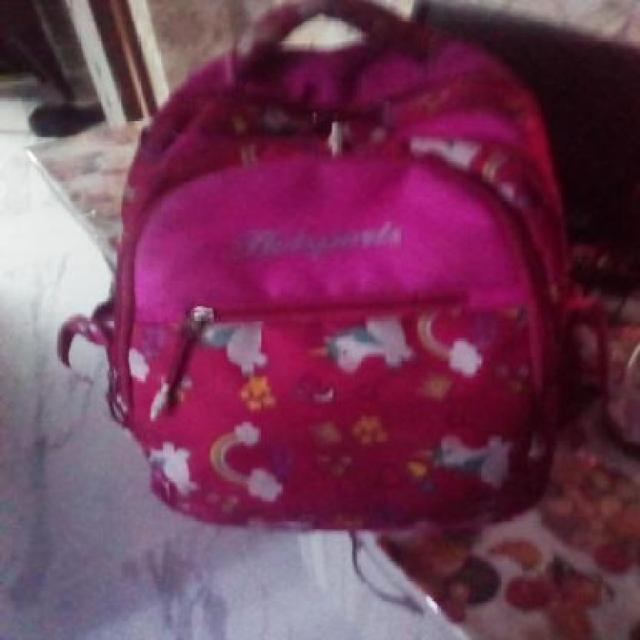backpack: (56, 0, 618, 535)
